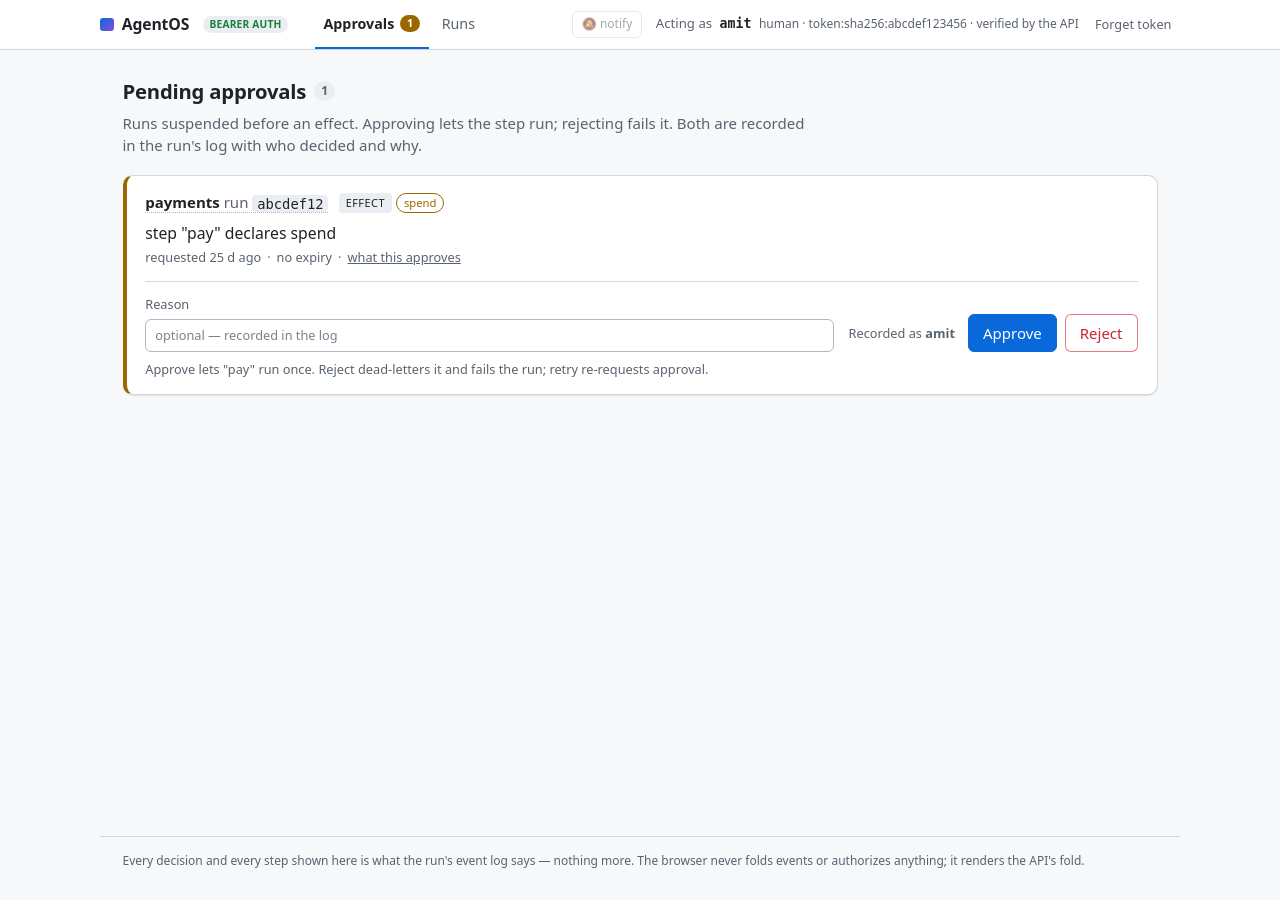
Test: bearer mode › shows who the log will name, lists the approval, and approves with a reason-only body
Expected: the list item shows "payments", [145,192,328,213]
Expected: the list item shows "step \"pay\" declares spend", [145,222,336,244]
Type "within budget" into the field named "reason for pay" at (489, 335), box [145,319,834,352]
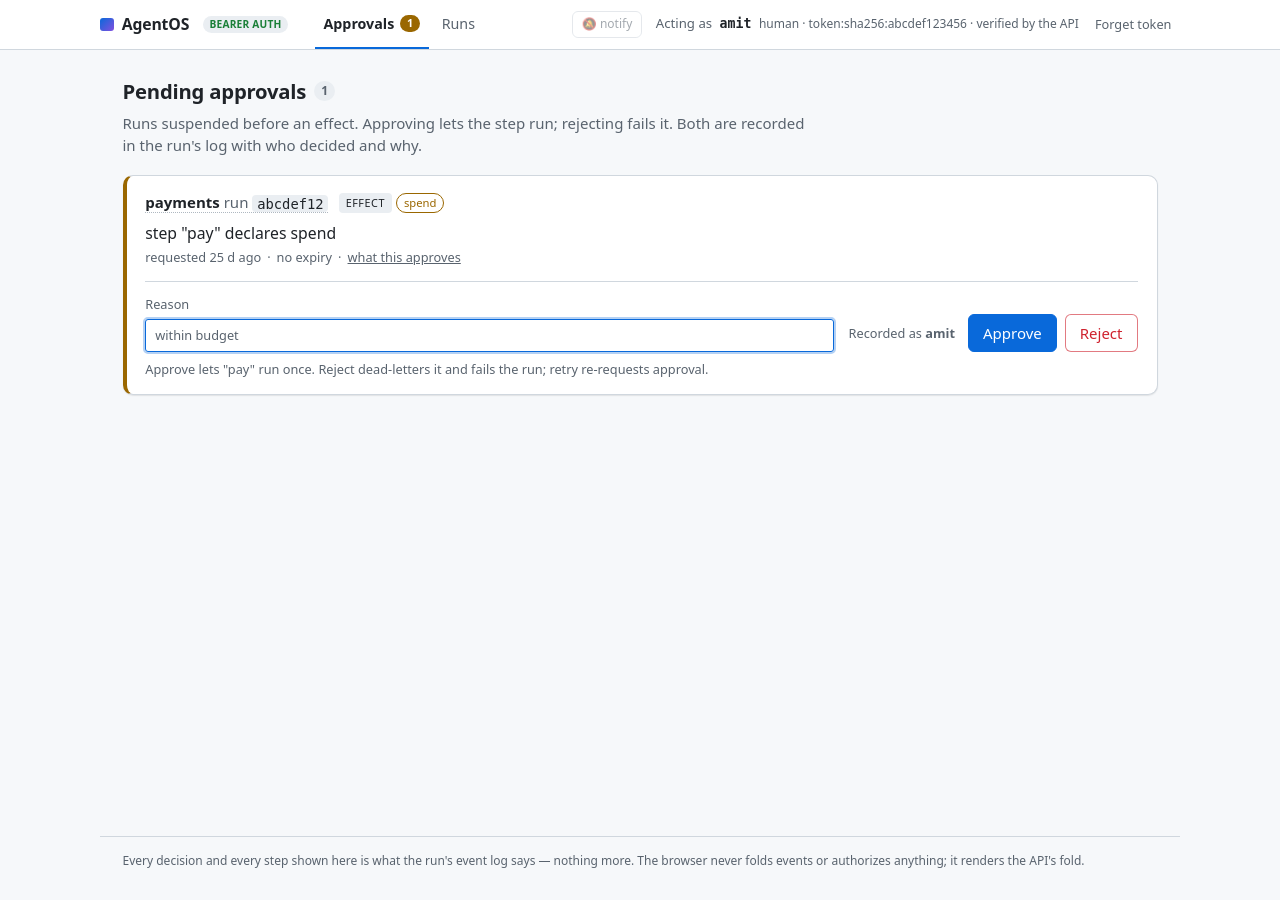
Click the button "Approve" at (1012, 333), box [968,314,1057,352]
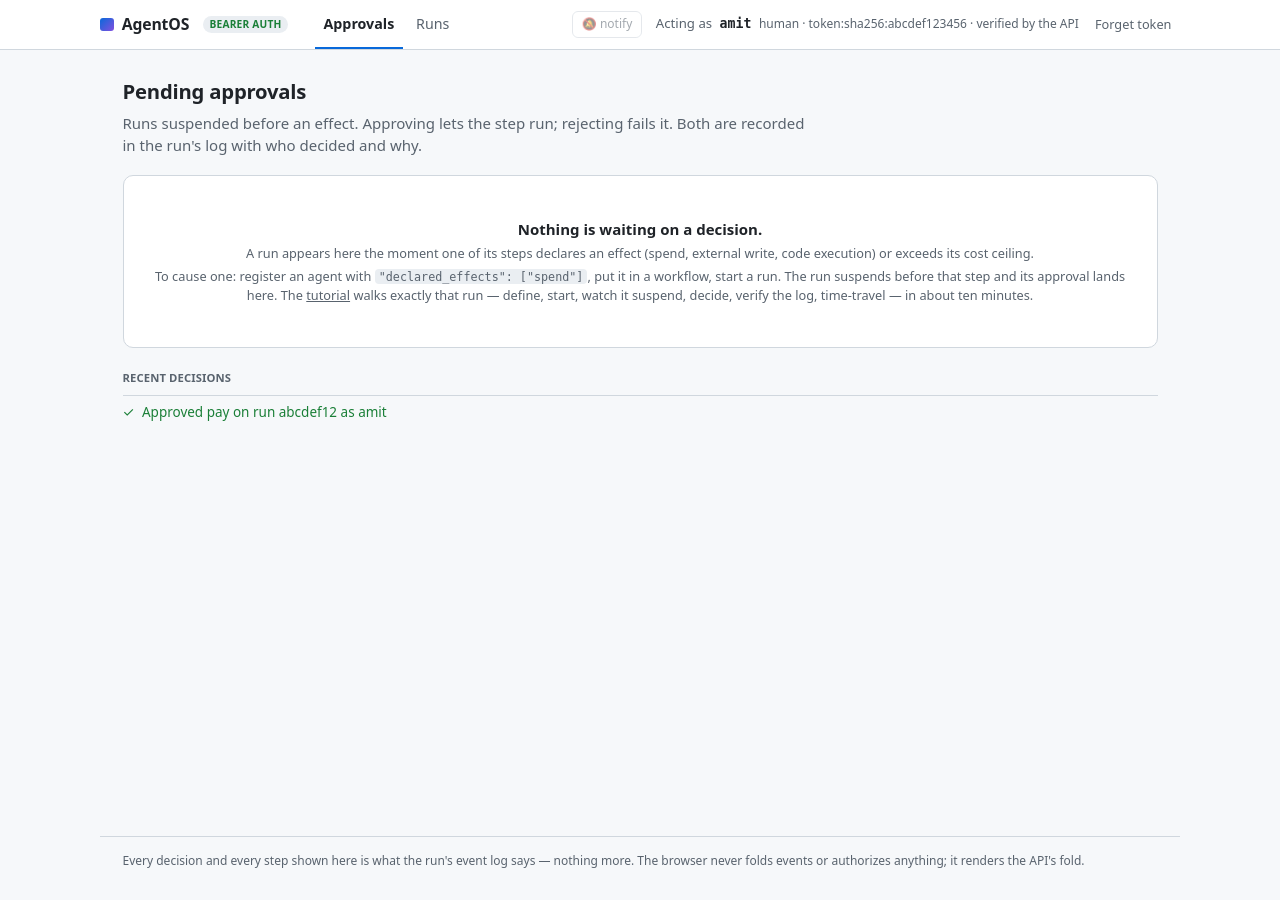
Expected: the text "Approved pay on run abcdef12 as amit" is shown, [122,395,1158,428]
Expected: the text "Nothing is waiting on a decision." is shown, [518,219,762,239]
